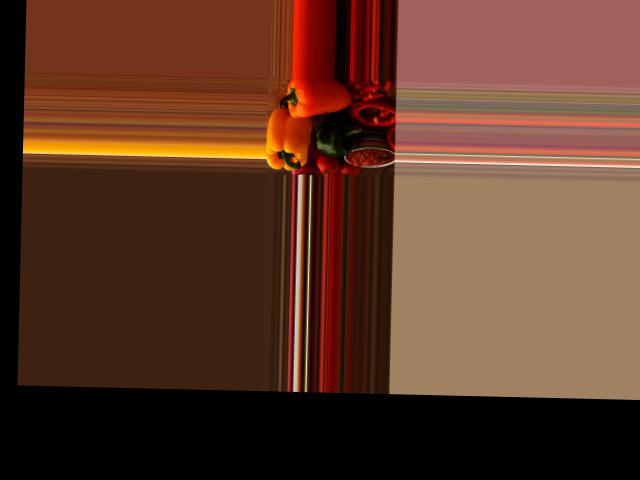bell_pepper: (266, 118, 313, 170)
